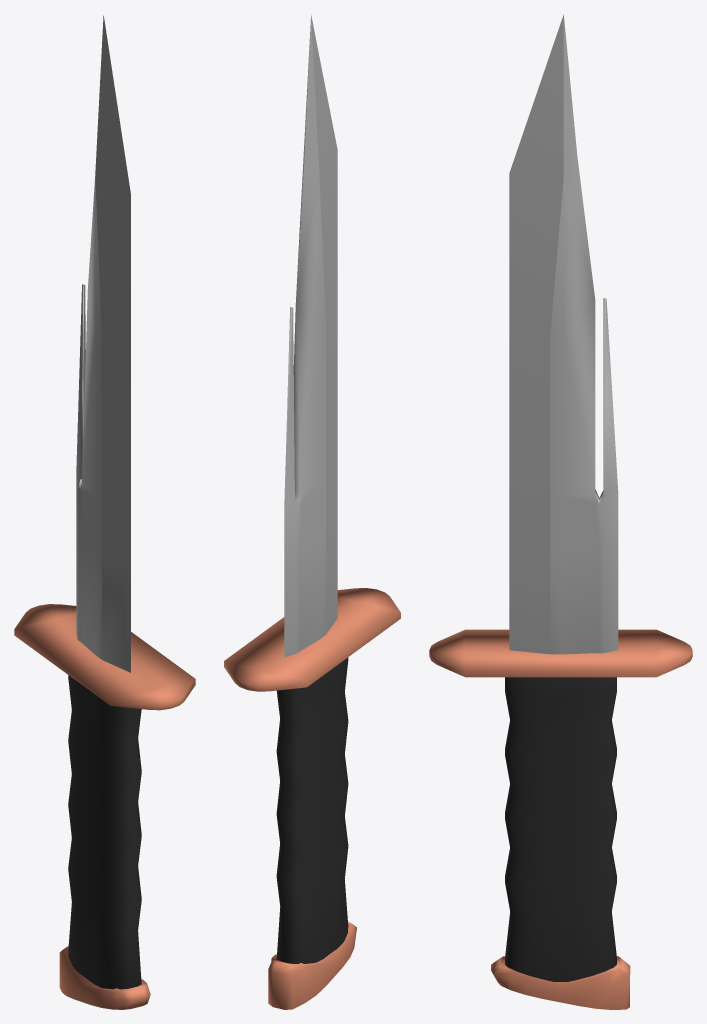
The model's file is Knife.glb.
The picture shows the model from 3 angles, left to right: view 1: azimuth 30°, elevation 25°; view 2: azimuth 150°, elevation 25°; view 3: azimuth 270°, elevation 25°; orthographic projection. The views are drawn at different scales.
Parts seen in each view (by area): view 1: Knife; view 2: Knife; view 3: Knife.
Boxes of the visible parts, x1,y1,x2,y2 form: Knife: (14,15,195,1009); Knife: (224,14,400,1009); Knife: (429,14,692,1009).
Bounding box in the file's own units: 0.348 × 3.89 × 0.9379.
